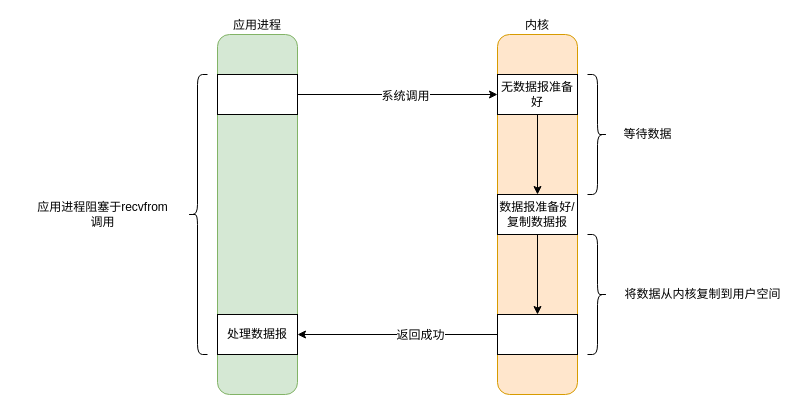
This 804x412 diagram has some shape labels left out. Each missing label, with the centre of its shape:
"recvfrom" belongs at (257,94).
"复制完成" belongs at (537,334).
